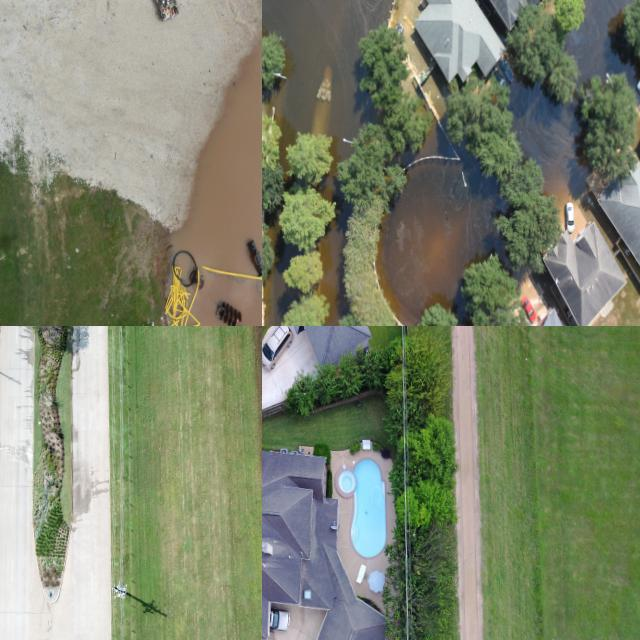fire: (262, 0, 391, 177), (378, 150, 505, 325), (512, 82, 575, 205), (570, 0, 628, 80), (320, 198, 347, 326), (262, 246, 299, 326), (266, 222, 282, 244)
